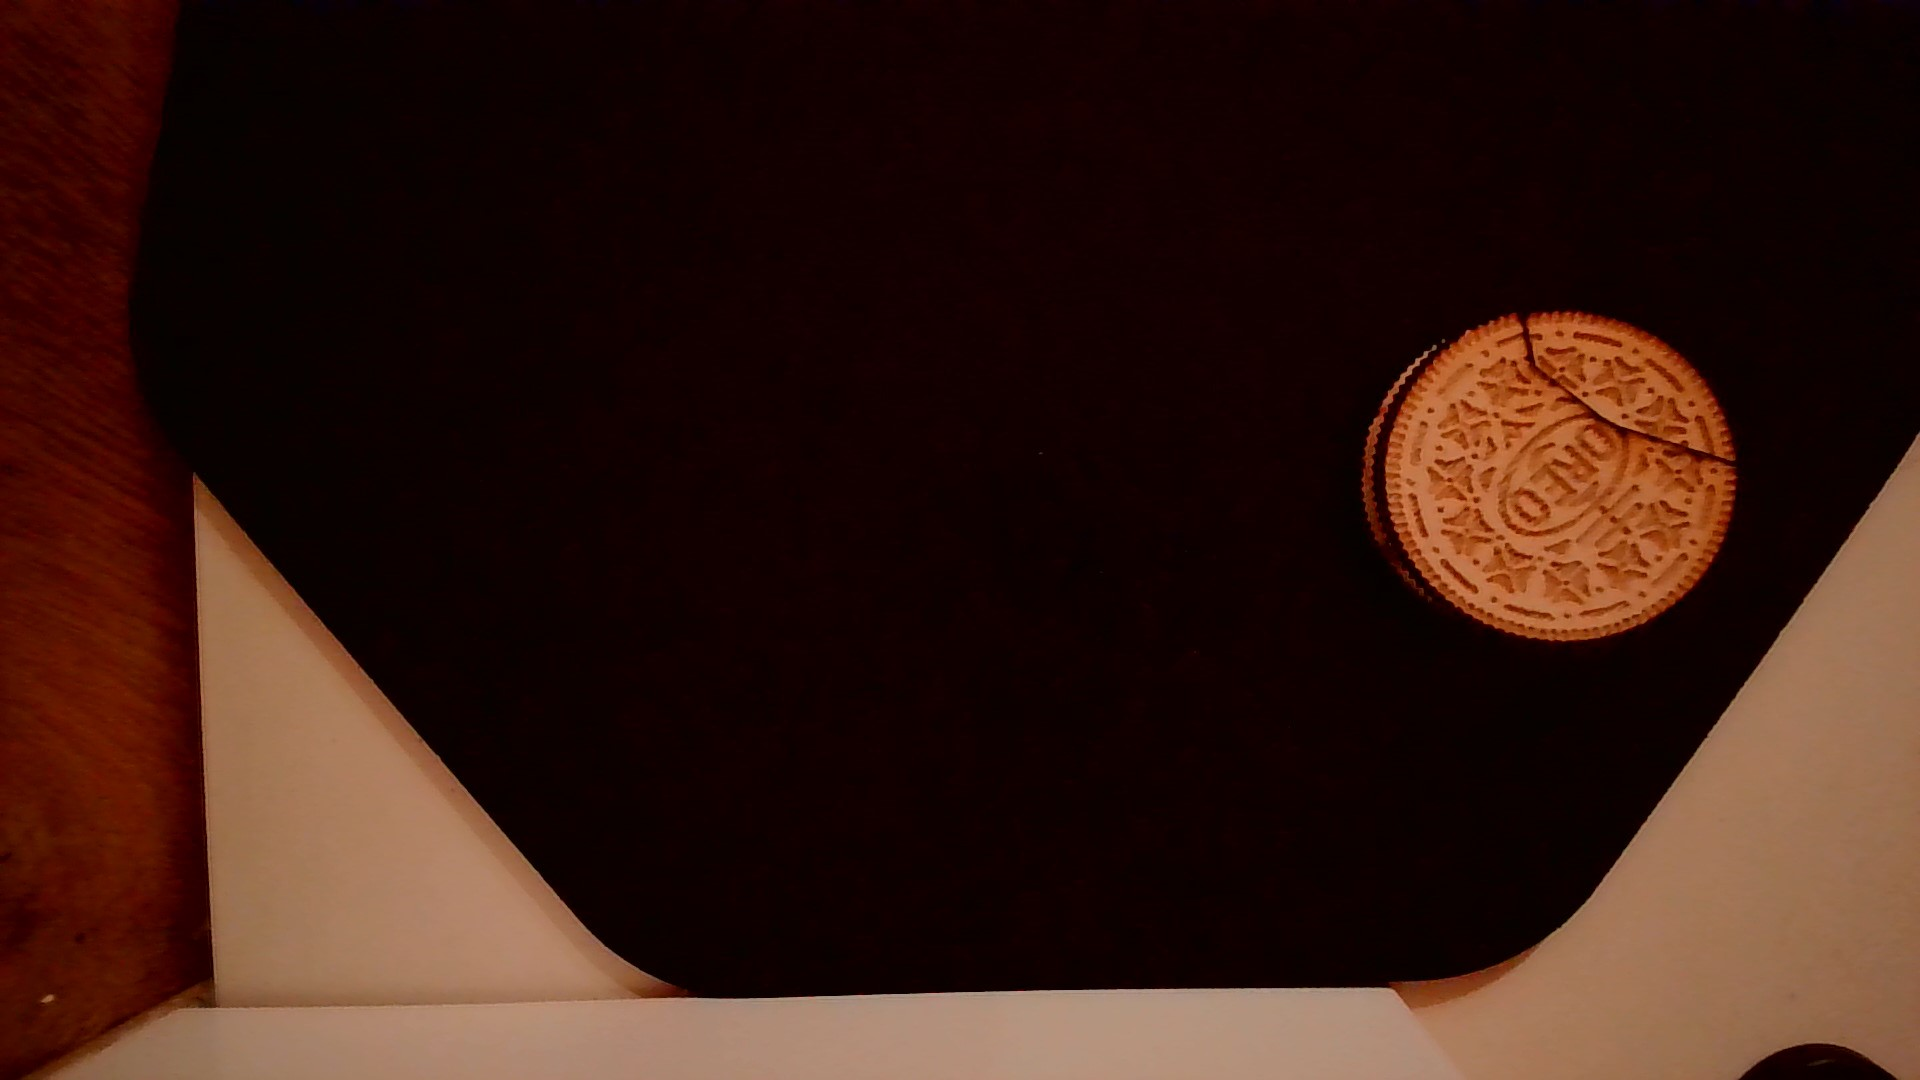Fissure: (1505, 303, 1745, 483)
Oréo: (1352, 301, 1741, 653)
